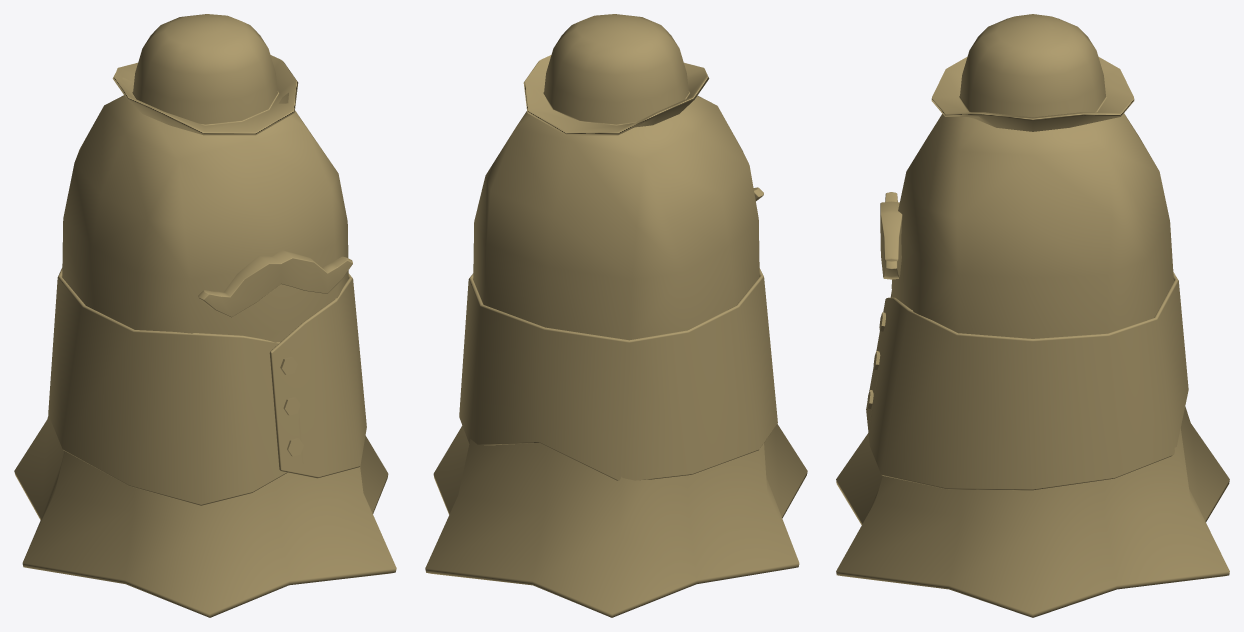
File: player_lawman.fbx
The picture shows the model from 3 angles, left to right: view 1: azimuth 30°, elevation 25°; view 2: azimuth 150°, elevation 25°; view 3: azimuth 270°, elevation 25°; orthographic projection.
Parts seen in each view (by area): view 1: Main_Body1, polySurface8, pSphere1, pCube1; view 2: Main_Body1, polySurface8, pSphere1; view 3: Main_Body1, polySurface8, pSphere1, pCube1.
Boxes of the visible parts, x1,y1,x2,y2 form: Main_Body1: (14, 95, 396, 617); polySurface8: (48, 268, 366, 505); pSphere1: (112, 14, 298, 135); pCube1: (198, 250, 352, 317); Main_Body1: (425, 95, 807, 617); polySurface8: (459, 268, 777, 480); pSphere1: (523, 14, 709, 135); Main_Body1: (836, 113, 1229, 617); polySurface8: (866, 272, 1188, 490); pSphere1: (931, 14, 1134, 131); pCube1: (880, 192, 902, 279).
Bounding box in the file's own units: 105 × 138 × 97.21.
